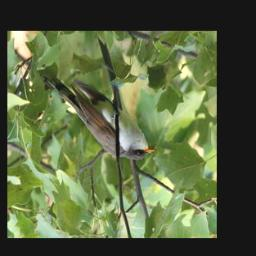Cuckoo: (38, 75, 154, 164)
